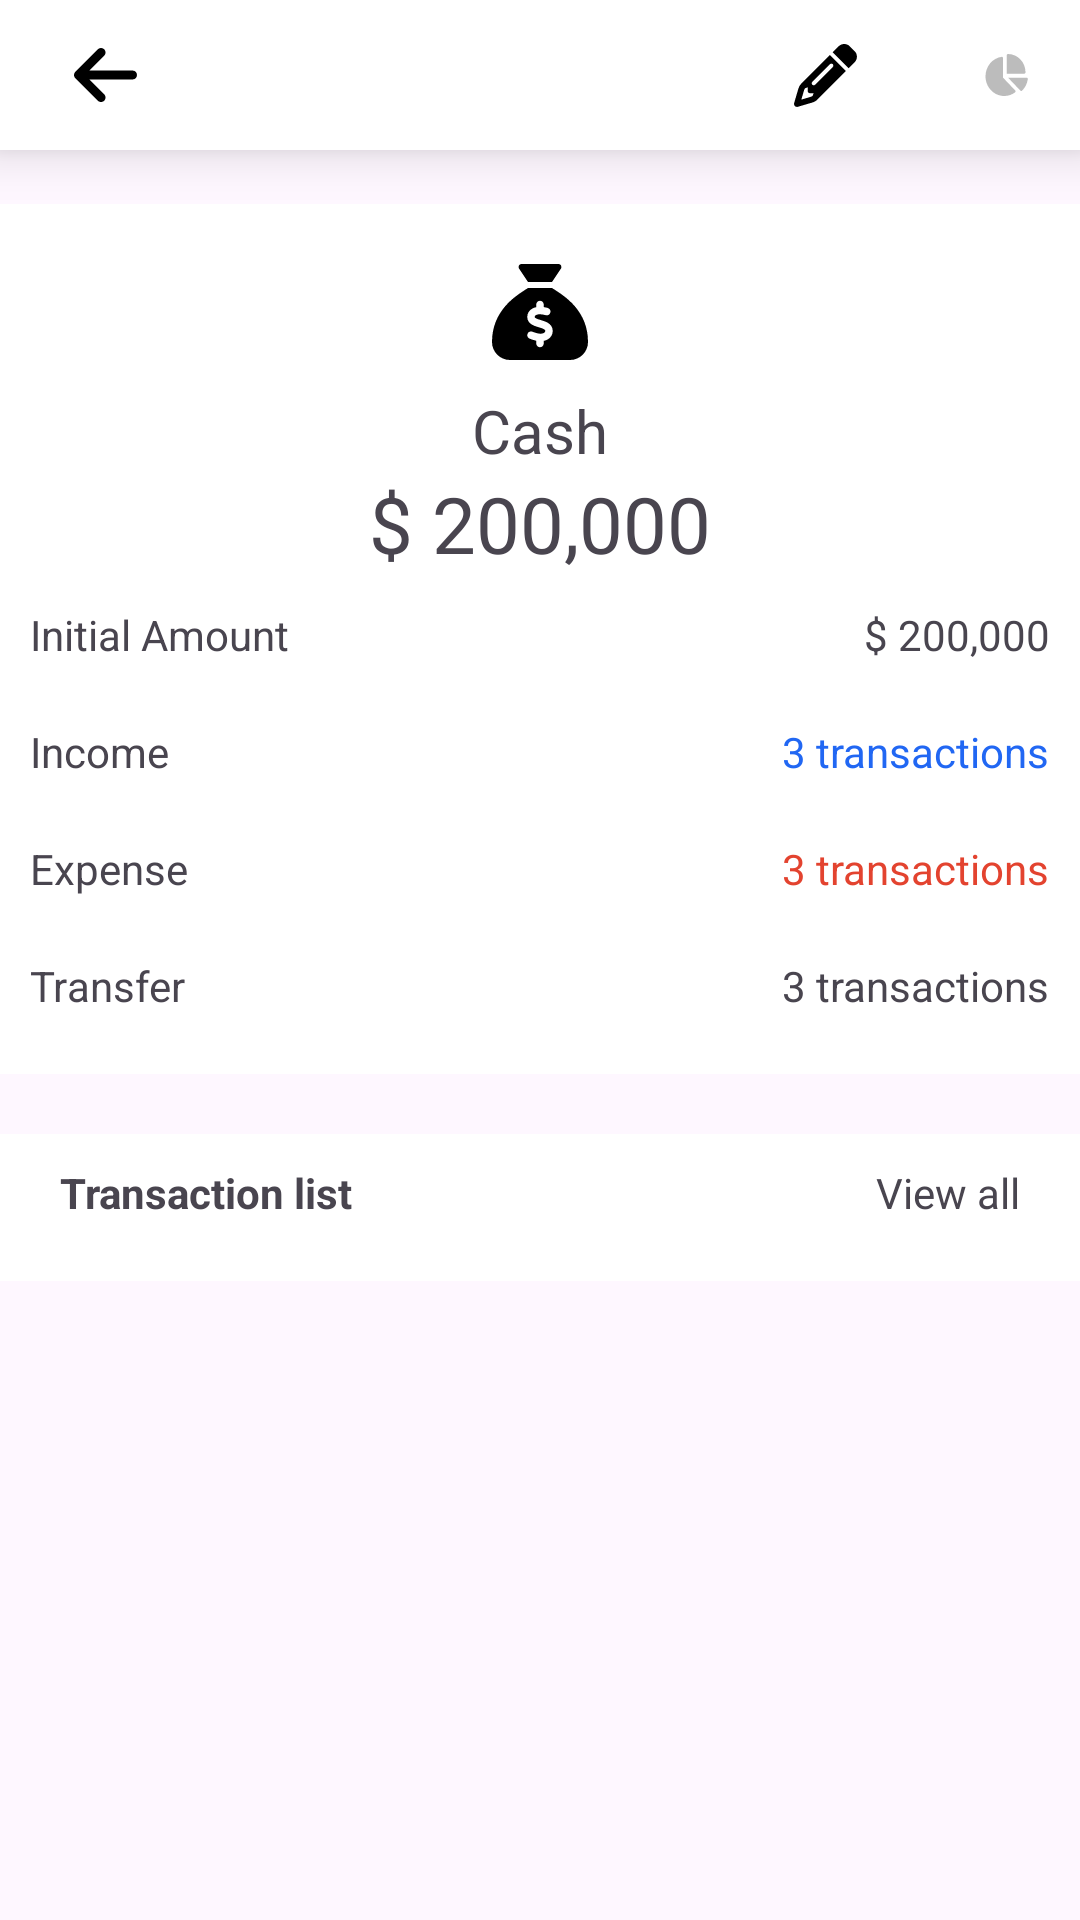

Screen size 1080×1920. Icon name, then its box in pixels as (x1, y1, x2, y2):
arrow left: (74, 48, 137, 102)
pencil: (794, 44, 857, 107)
statistic: (985, 54, 1028, 96)
